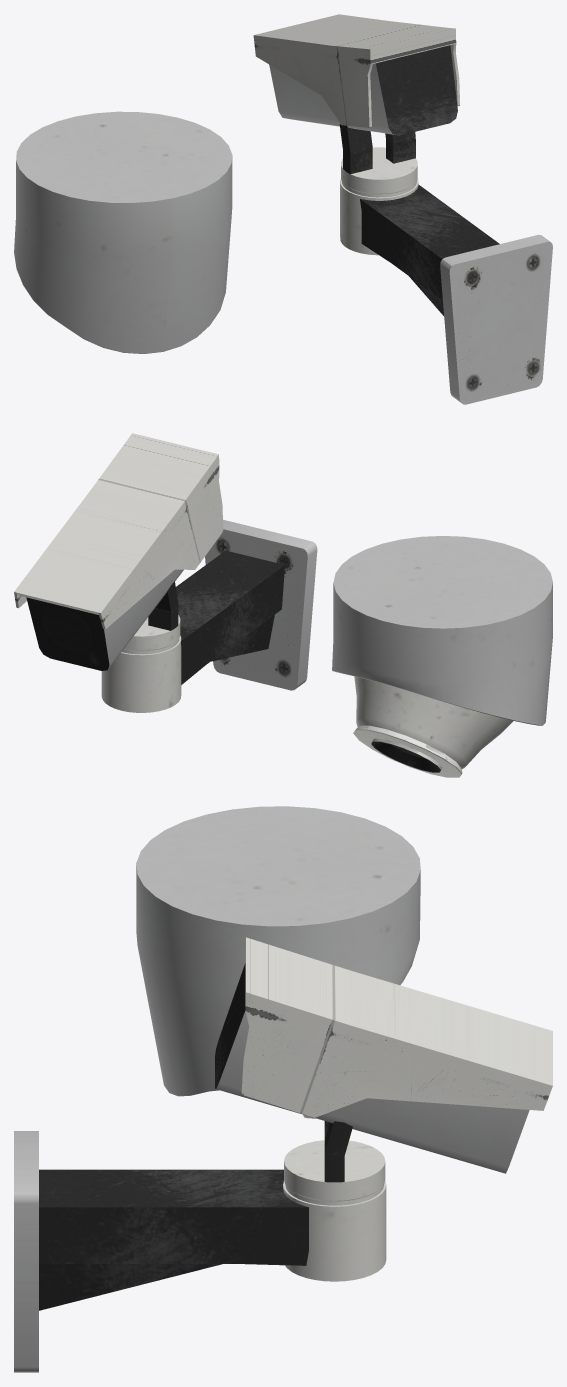
Rendered from security_cameras_low_polygon__game_ready.glb.
3 views of the same model, one above another, from view 1: azimuth 30°, elevation 25°; view 2: azimuth 150°, elevation 25°; view 3: azimuth 270°, elevation 25° (orthographic). The views are drawn at different scales.
Visible parts, largest first — view 1: SM_Kamera_1_0, SM_Kamera_2_1; view 2: SM_Kamera_1_0, SM_Kamera_2_1; view 3: SM_Kamera_1_0, SM_Kamera_2_1.
Part boxes in pixels (x1=…): SM_Kamera_1_0: x1=253, y1=14, x2=552, y2=404; SM_Kamera_2_1: x1=14, y1=111, x2=232, y2=353; SM_Kamera_1_0: x1=14, y1=433, x2=317, y2=712; SM_Kamera_2_1: x1=332, y1=536, x2=552, y2=777; SM_Kamera_1_0: x1=14, y1=937, x2=552, y2=1372; SM_Kamera_2_1: x1=136, y1=806, x2=420, y2=1118.
Size of the model in its own units: 89.68 by 59.44 by 75.48.
1 material, 1 textured.
